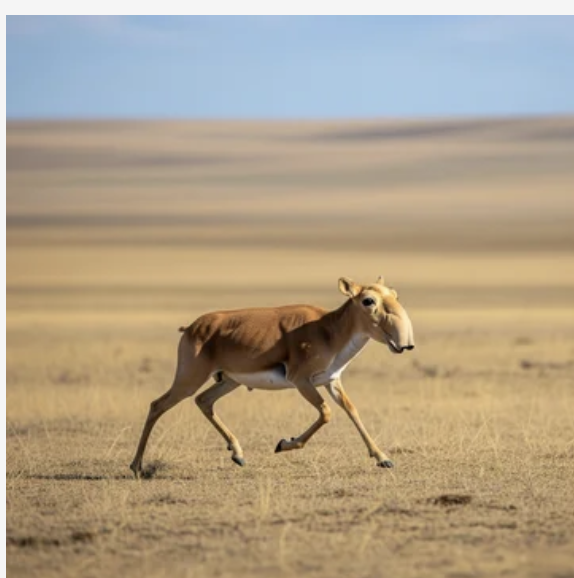saiga: (115, 266, 427, 469)
